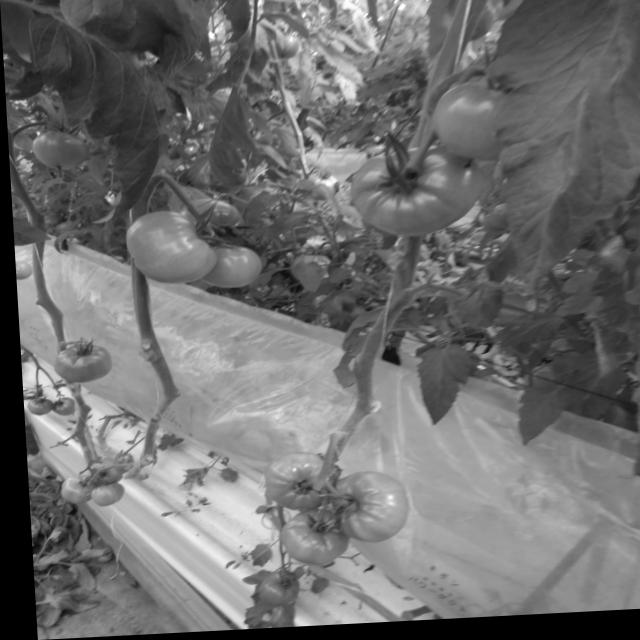yesil: (299, 98, 558, 285), (99, 177, 278, 326)
